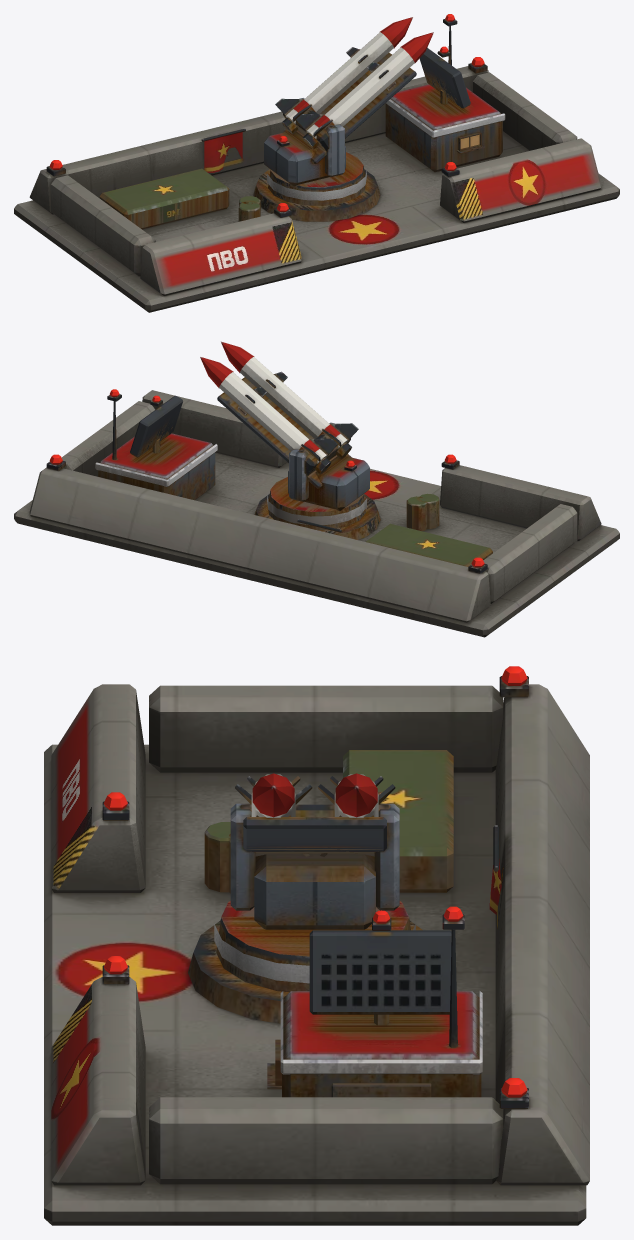
Rendered from sam.soviet.glb.
3 views of the same model, one above another, from view 1: azimuth 30°, elevation 25°; view 2: azimuth 150°, elevation 25°; view 3: azimuth 270°, elevation 25° (orthographic). The views are drawn at different scales.
Parts seen in each view (by area): view 1: root_mesh, turret_mesh, ms1_mesh, ms0_mesh, elev_mesh, radar_mesh; view 2: root_mesh, turret_mesh, ms0_mesh, ms1_mesh, elev_mesh, radar_mesh; view 3: root_mesh, turret_mesh, radar_mesh, elev_mesh, ms1_mesh, ms0_mesh.
Boxes of the visible parts, <box> form: root_mesh: <box>14,14,619,312</box>; turret_mesh: <box>264,98,366,205</box>; ms1_mesh: <box>296,32,433,149</box>; ms0_mesh: <box>275,17,412,134</box>; elev_mesh: <box>282,52,416,163</box>; radar_mesh: <box>419,46,470,108</box>; root_mesh: <box>14,389,619,637</box>; turret_mesh: <box>267,422,369,530</box>; ms0_mesh: <box>200,357,337,474</box>; ms1_mesh: <box>221,341,358,458</box>; elev_mesh: <box>217,377,351,488</box>; radar_mesh: <box>130,395,182,457</box>; root_mesh: <box>44,666,589,1225</box>; turret_mesh: <box>214,803,415,992</box>; radar_mesh: <box>309,910,451,1025</box>; elev_mesh: <box>239,804,390,856</box>; ms1_mesh: <box>235,773,312,856</box>; ms0_mesh: <box>318,773,395,856</box>.
Size of the model in its own units: 1.98 by 0.6273 by 0.9866.
1 material, 1 textured.
